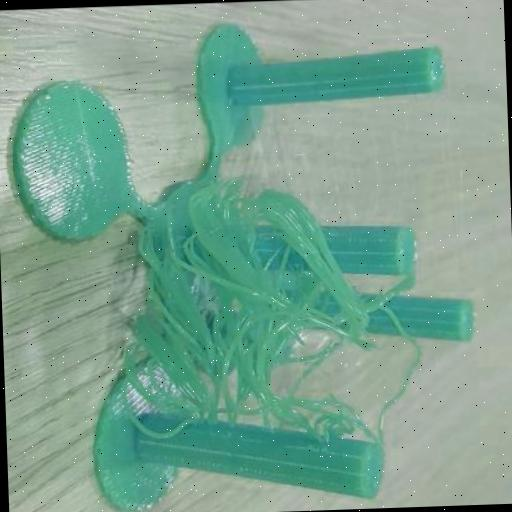spaghetti: (115, 168, 426, 454)
